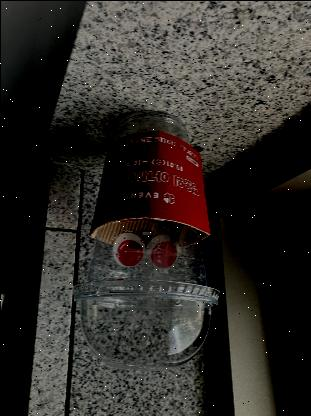Others: (72, 110, 216, 374), (72, 276, 220, 366)
